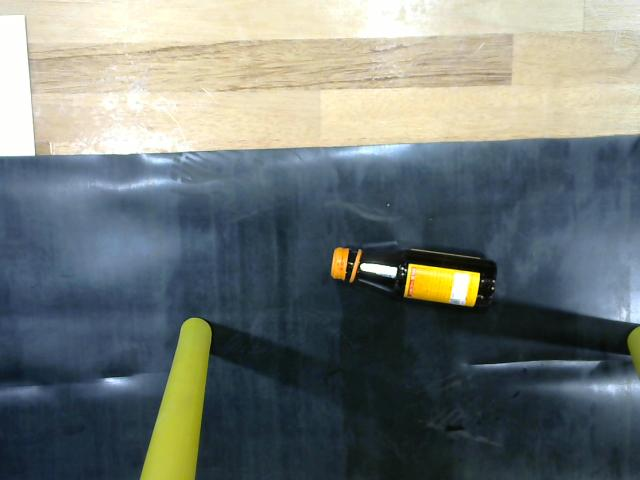glass: (322, 236, 502, 317)
